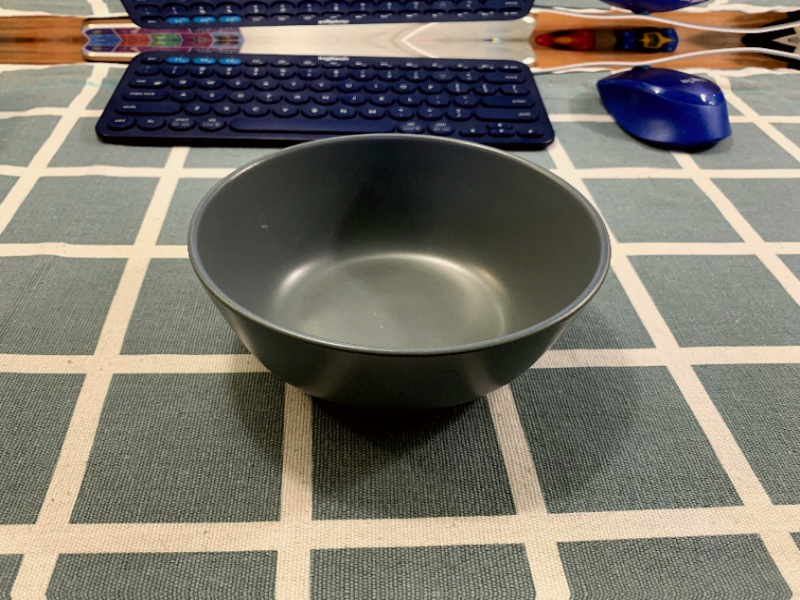bowl_big: (181, 129, 620, 417)
